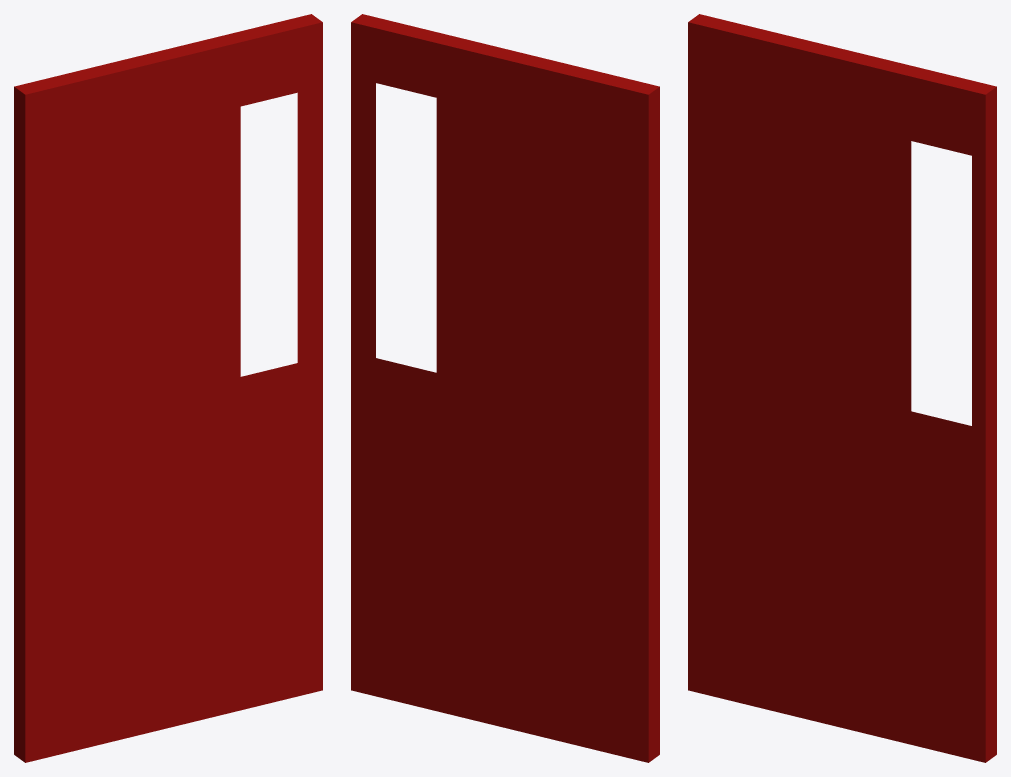
File: original-4.obj
3 views of the same model, side by side, from view 1: azimuth 30°, elevation 25°; view 2: azimuth 150°, elevation 25°; view 3: azimuth 330°, elevation 25° (orthographic).
Visible parts, largest first — view 1: #ID5; view 2: #ID5; view 3: #ID5.
Part boxes in pixels (x1,y1,x2,y2): #ID5: (14,14,322,762); #ID5: (351,14,659,762); #ID5: (688,14,996,762).
Bounding box in the file's own units: 0.7015 × 1.51 × 0.0459.
